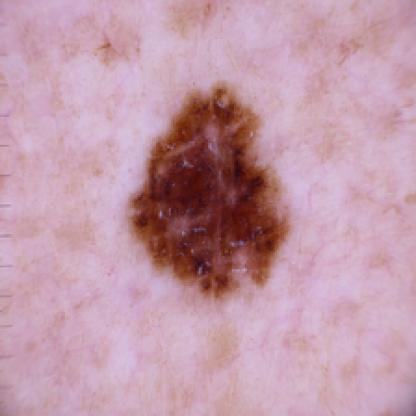Skin_Cancer-Malignant: (126, 78, 295, 298)
